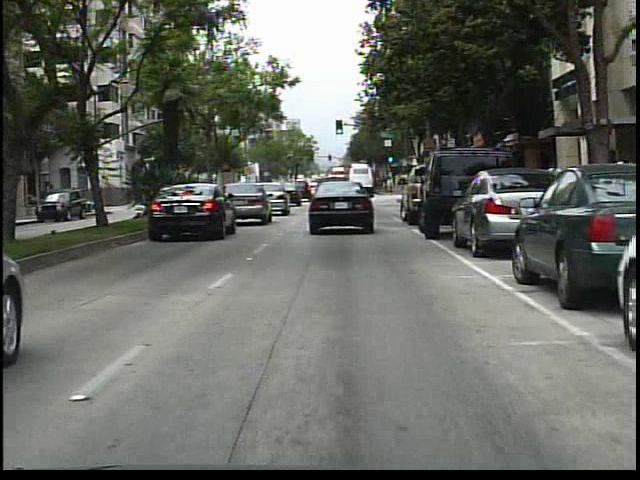person: (609, 150, 637, 231), (541, 156, 564, 216)
